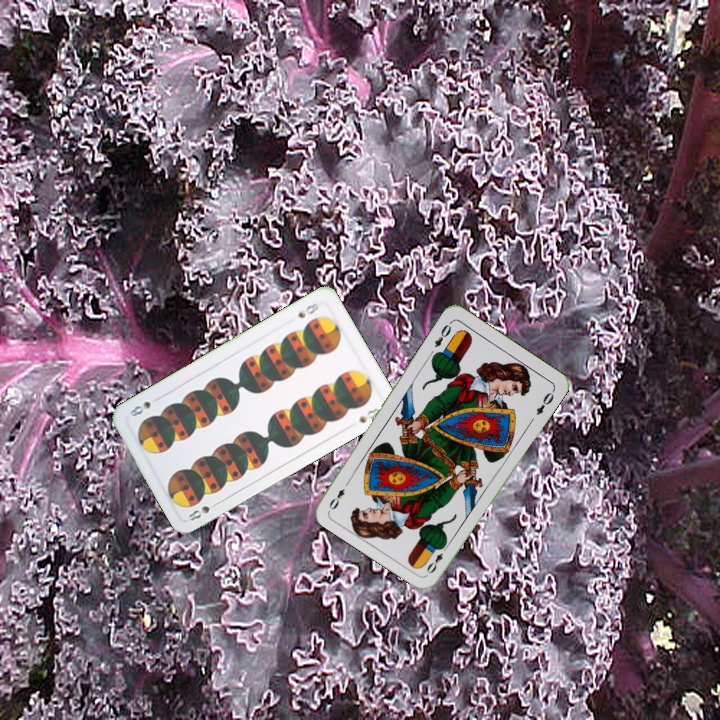EO: (422, 541, 451, 576), (430, 317, 455, 350)
S8: (293, 299, 321, 321), (184, 502, 212, 523)
